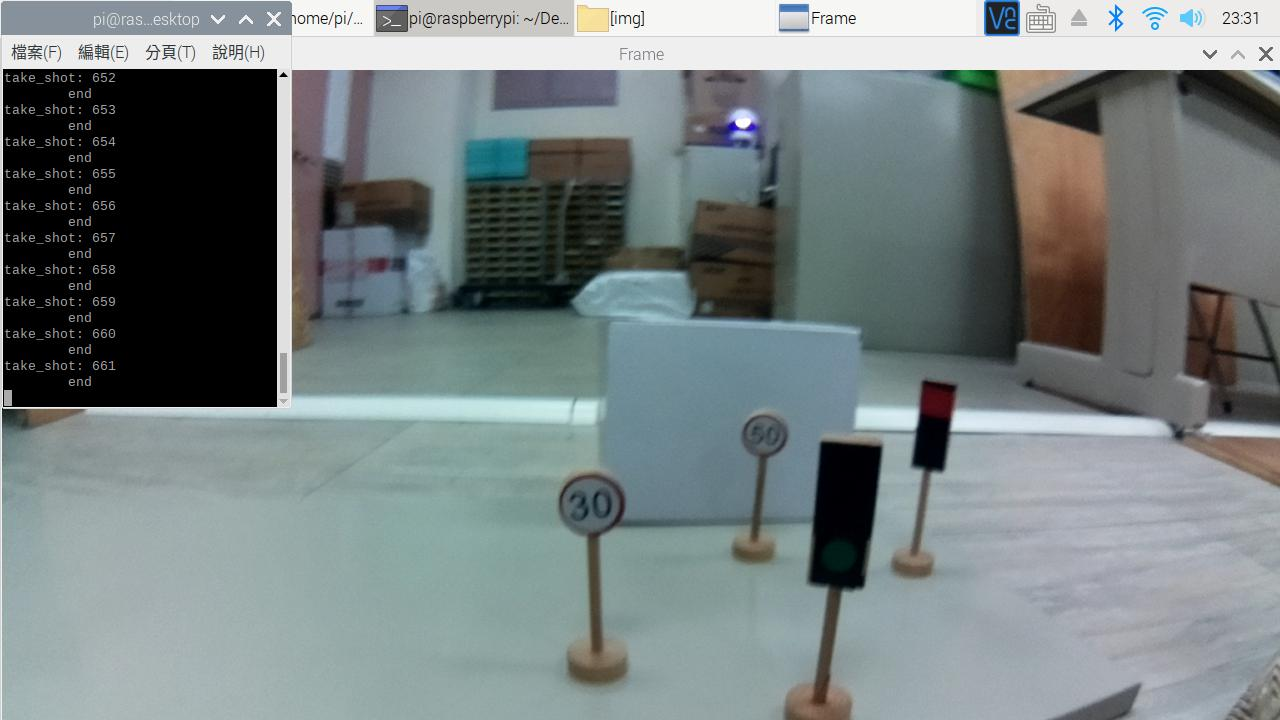Green: (804, 429, 883, 600)
Red: (904, 369, 964, 482)
Speed30: (559, 464, 640, 538)
